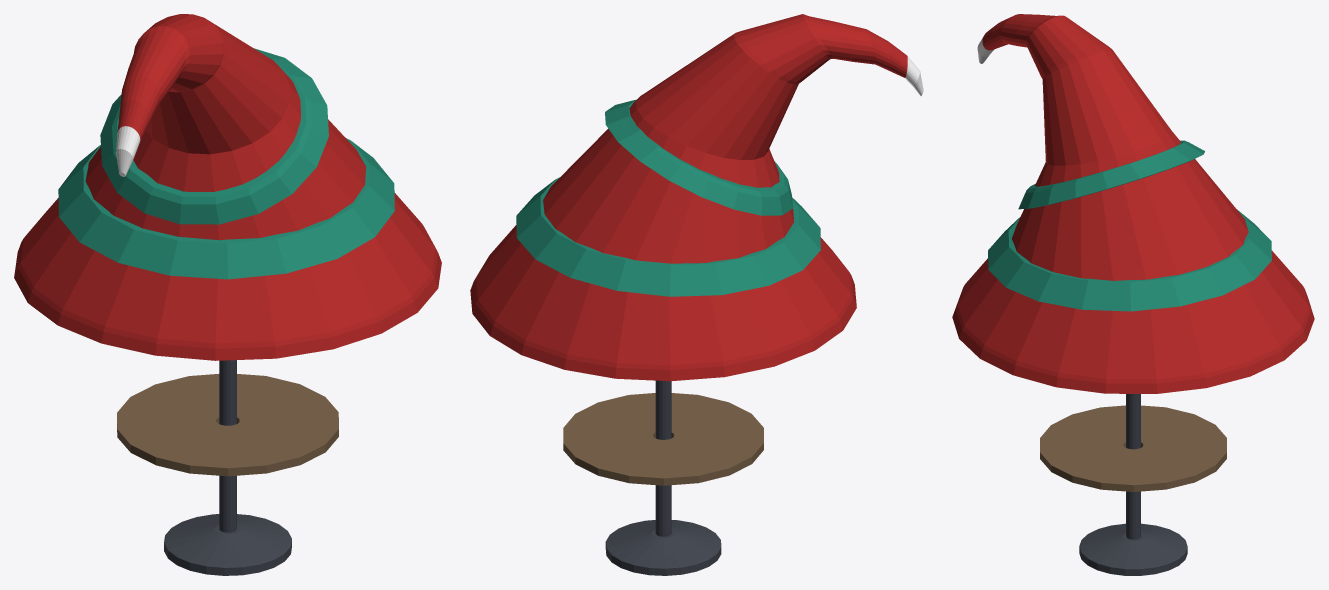
Rendered from WazardTable_Merry.fbx.
3 renders of one model, left to right at view 1: azimuth 30°, elevation 25°; view 2: azimuth 150°, elevation 25°; view 3: azimuth 270°, elevation 25°, orthographic. The views are drawn at different scales.
Parts seen in each view (by area): view 1: WazardTable_Merry; view 2: WazardTable_Merry; view 3: WazardTable_Merry.
Boxes of the visible parts, <box> form: WazardTable_Merry: <box>14,14,441,575</box>; WazardTable_Merry: <box>470,14,923,575</box>; WazardTable_Merry: <box>952,14,1314,575</box>.
Bounding box in the file's own units: 520 × 758 × 506.
